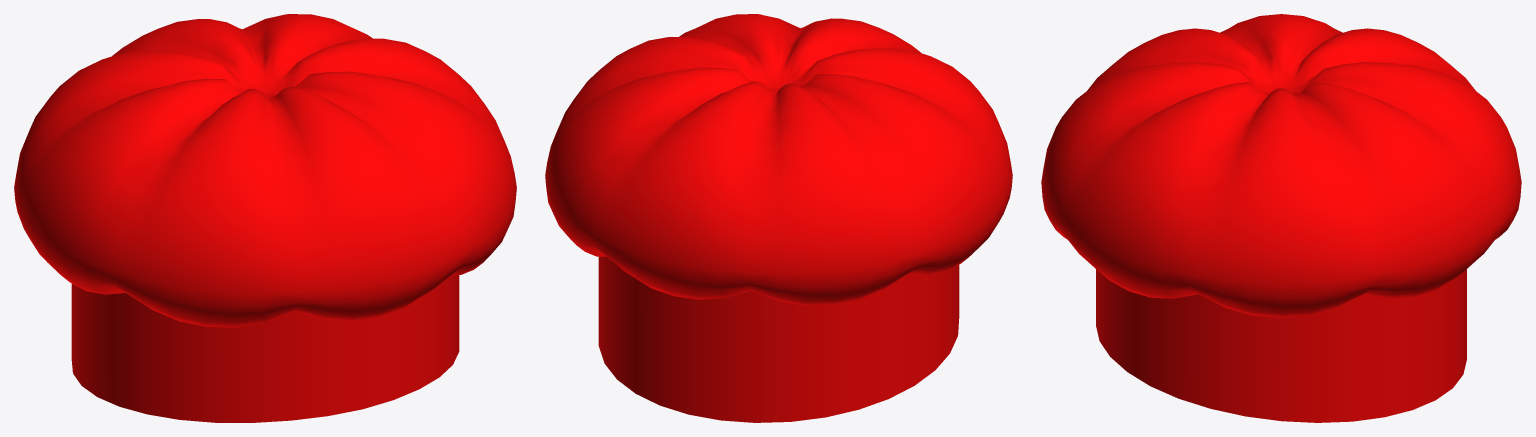
Rendered from hat_chef.fbx.
The picture shows the model from 3 angles, left to right: view 1: azimuth 30°, elevation 25°; view 2: azimuth 150°, elevation 25°; view 3: azimuth 270°, elevation 25°; orthographic projection. The views are drawn at different scales.
Parts seen in each view (by area): view 1: Hat_Chef; view 2: Hat_Chef; view 3: Hat_Chef.
Part boxes in pixels (left/top/right/bottom): Hat_Chef: left=14, top=14, right=516, bottom=422; Hat_Chef: left=545, top=14, right=1012, bottom=422; Hat_Chef: left=1041, top=14, right=1521, bottom=422.
Bounding box in the file's own units: 35.56 × 24.07 × 35.56.
